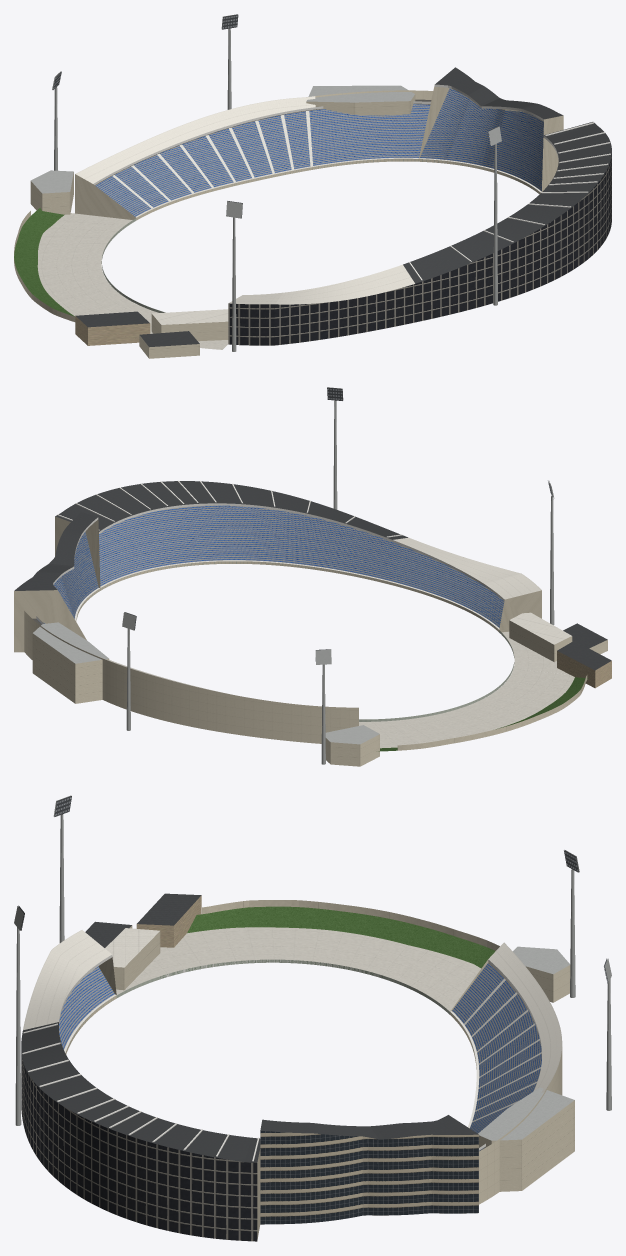
Rendered from subiaco_B2.glb.
The picture shows the model from 3 angles, top to bottom: view 1: azimuth 30°, elevation 25°; view 2: azimuth 150°, elevation 25°; view 3: azimuth 270°, elevation 25°; orthographic projection. The views are drawn at different scales.
Parts seen in each view (by area): view 1: subiacoB; view 2: subiacoB; view 3: subiacoB.
Part boxes in pixels (<box>): subiacoB: <box>14,14,611,358</box>; subiacoB: <box>14,387,611,766</box>; subiacoB: <box>14,795,611,1241</box>.
Size of the model in its own units: 245 by 75.3 by 190.
Materials: 15 (15 with a texture image).
